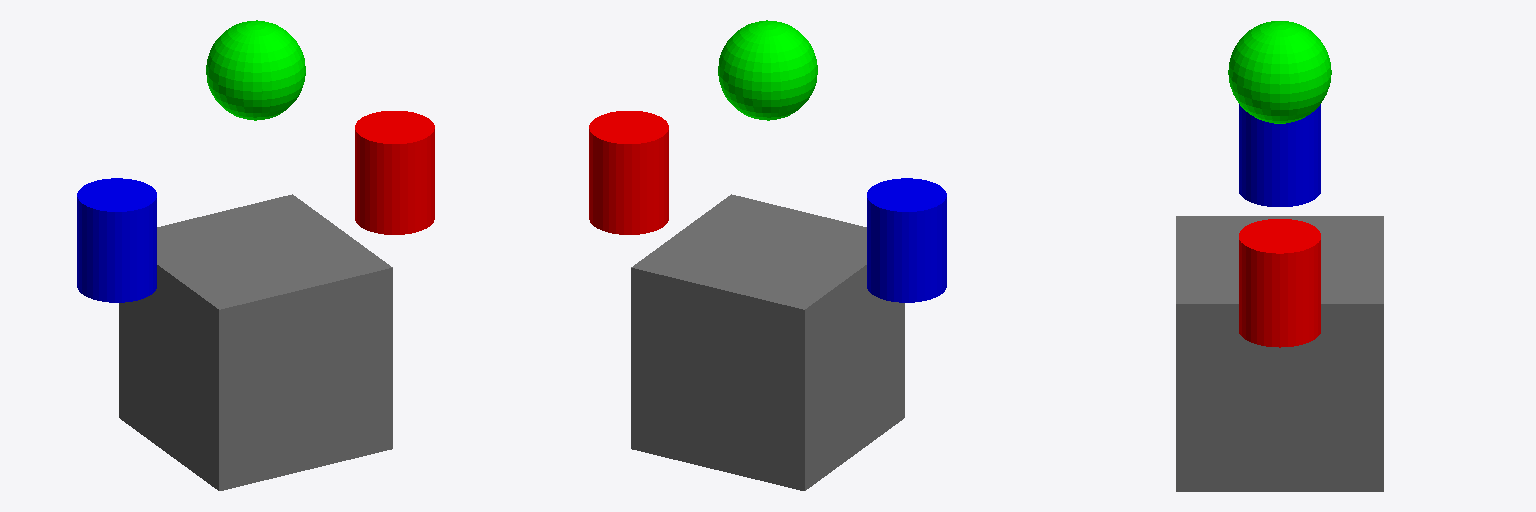
URDF robot description (jedy_primitives):
<?xml version='1.0' encoding='UTF-8'?>
<robot name="jedy_primitives">
  <link name="base_link">
    <inertial>
      <origin xyz="0 0 0.05" rpy="0 0 0"/>
      <mass value="0.5"/>
      <inertia ixx="0.01" ixy="0.0" ixz="0.0" iyy="0.01" iyz="0.0" izz="0.01"/>
    </inertial>
    <visual>
      <geometry>
        <box size="0.1 0.1 0.1"/>
      </geometry>
      <material name="grey">
        <color rgba="0.5 0.5 0.5 1"/>
      </material>
      <origin xyz="0.0 0.0 0.0" rpy="0 0 0"/>
    </visual>
    <collision>
      <geometry>
        <box size="0.1 0.1 0.1"/>
      </geometry>
      <origin xyz="0.0 0.0 0.0" rpy="0 0 0"/>
    </collision>
  </link>
  
  <link name="rarm_link0">
    <inertial>
      <origin xyz="0 0 0.025" rpy="0 0 0"/>
      <mass value="0.05"/>
      <inertia ixx="0.001" ixy="0.0" ixz="0.0" iyy="0.001" iyz="0.0" izz="0.001"/>
    </inertial>
    <visual>
      <geometry>
        <cylinder radius="0.02" length="0.05"/>
      </geometry>
      <material name="red">
        <color rgba="1 0 0 1"/>
      </material>
      <origin xyz="0 0 0.025" rpy="0 0 0"/>
    </visual>
    <collision>
      <geometry>
        <cylinder radius="0.02" length="0.05"/>
      </geometry>
      <origin xyz="0 0 0.025" rpy="0 0 0"/>
    </collision>
  </link>
  
  <link name="larm_link0">
    <inertial>
      <origin xyz="0 0 0.025" rpy="0 0 0"/>
      <mass value="0.05"/>
      <inertia ixx="0.001" ixy="0.0" ixz="0.0" iyy="0.001" iyz="0.0" izz="0.001"/>
    </inertial>
    <visual>
      <geometry>
        <cylinder radius="0.02" length="0.05"/>
      </geometry>
      <material name="blue">
        <color rgba="0 0 1 1"/>
      </material>
      <origin xyz="0 0 0.025" rpy="0 0 0"/>
    </visual>
    <collision>
      <geometry>
        <cylinder radius="0.02" length="0.05"/>
      </geometry>
      <origin xyz="0 0 0.025" rpy="0 0 0"/>
    </collision>
  </link>
  
  <link name="head_link0">
    <inertial>
      <origin xyz="0 0 0.025" rpy="0 0 0"/>
      <mass value="0.05"/>
      <inertia ixx="0.001" ixy="0.0" ixz="0.0" iyy="0.001" iyz="0.0" izz="0.001"/>
    </inertial>
    <visual>
      <geometry>
        <sphere radius="0.025"/>
      </geometry>
      <material name="green">
        <color rgba="0 1 0 1"/>
      </material>
      <origin xyz="0 0 0" rpy="0 0 0"/>
    </visual>
    <collision>
      <geometry>
        <sphere radius="0.025"/>
      </geometry>
      <origin xyz="0 0 0" rpy="0 0 0"/>
    </collision>
  </link>
  
  <!-- Joints -->
  <joint name="base_to_rarm" type="fixed">
    <parent link="base_link"/>
    <child link="rarm_link0"/>
    <origin xyz="0.08 0 0.05" rpy="0 0 0"/>
  </joint>
  
  <joint name="base_to_larm" type="fixed">
    <parent link="base_link"/>
    <child link="larm_link0"/>
    <origin xyz="-0.08 0 0.05" rpy="0 0 0"/>
  </joint>
  
  <joint name="base_to_head" type="fixed">
    <parent link="base_link"/>
    <child link="head_link0"/>
    <origin xyz="0 0 0.15" rpy="0 0 0"/>
  </joint>
</robot>

--- Facts derived from the render (not from the file) ---
The picture shows the robot from 3 angles, left to right: view 1: azimuth 30°, elevation 25°; view 2: azimuth 150°, elevation 25°; view 3: azimuth 270°, elevation 25°; orthographic projection.
Robot: jedy_primitives — 4 links, 3 joints (3 fixed); root link base_link; default pose: all joints at 0.
Visible links, largest first — view 1: base_link, larm_link0, rarm_link0, head_link0; view 2: base_link, larm_link0, rarm_link0, head_link0; view 3: base_link, rarm_link0, head_link0, larm_link0.
Boxes of the visible links, bbox=[...] form: base_link: bbox=[119, 194, 392, 490]; larm_link0: bbox=[77, 178, 156, 302]; rarm_link0: bbox=[355, 111, 434, 234]; head_link0: bbox=[206, 20, 305, 120]; base_link: bbox=[631, 194, 904, 490]; larm_link0: bbox=[867, 178, 946, 302]; rarm_link0: bbox=[589, 111, 668, 234]; head_link0: bbox=[718, 20, 817, 120]; base_link: bbox=[1176, 216, 1383, 491]; rarm_link0: bbox=[1239, 219, 1320, 347]; head_link0: bbox=[1228, 21, 1331, 123]; larm_link0: bbox=[1239, 104, 1320, 206].
Size in the robot's own frame: 0.2 by 0.1 by 0.225 metres.
Geometry: primitives only (box / cylinder / sphere), no mesh files.
